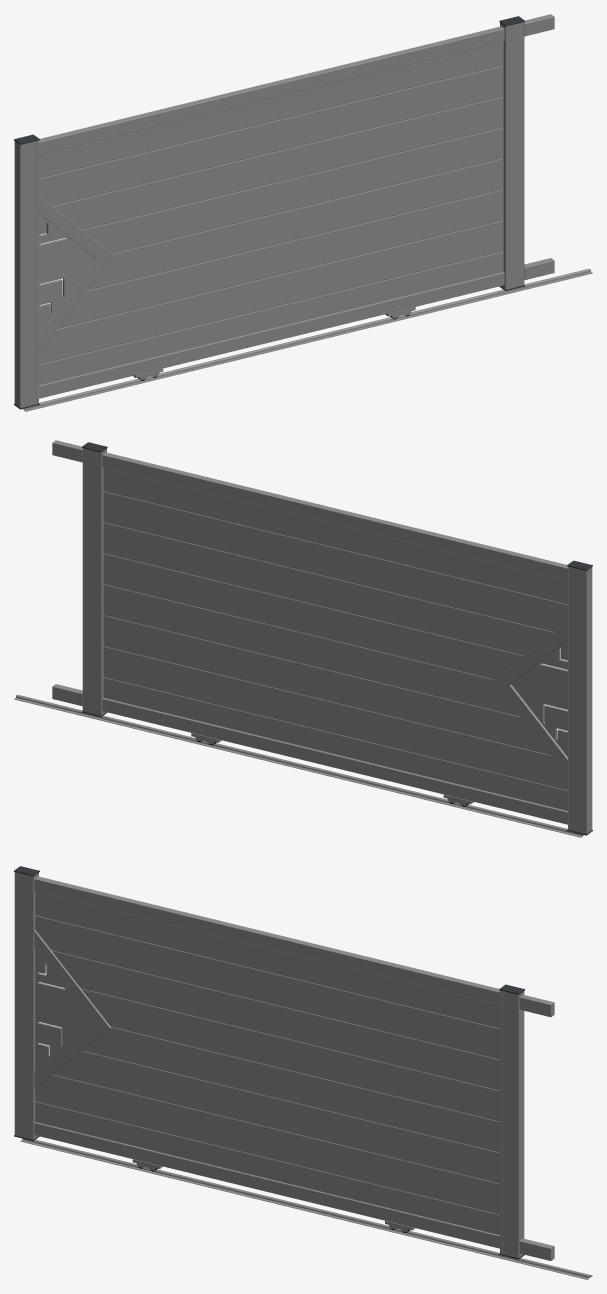
3 renders of one model, top to bottom at view 1: azimuth 30°, elevation 25°; view 2: azimuth 150°, elevation 25°; view 3: azimuth 330°, elevation 25°, orthographic.
Visible parts, largest first — view 1: Shape107412932, Shape107412931, Shape107412933, Shape107412643, Shape107413021, Rail, chip001, Line033; view 2: Shape107412932, Shape107412931, Shape107412933, Shape107412643, Shape107413021, Rail, chip001, Line033; view 3: Shape107412932, Shape107412931, Shape107412933, Shape107413021, Shape107412643, chip001, Rail, Line033.
Part boxes in pixels (x1,y1,x2,y2): Shape107412932: (39,41,503,385); Shape107412931: (39,14,554,154); Shape107412933: (39,258,554,398); Shape107412643: (14,140,38,407); Shape107413021: (500,22,524,289); Rail: (22,268,592,411); chip001: (39,213,95,331); Line033: (39,195,113,351); Shape107412932: (103,468,567,810); Shape107412931: (52,440,567,580); Shape107412933: (52,684,567,824); Shape107412643: (568,566,592,833); Shape107413021: (82,448,106,715); Rail: (14,694,584,837); chip001: (511,639,567,756); Line033: (493,621,567,777); Shape107412932: (35,891,499,1234); Shape107412931: (34,876,554,1017); Shape107412933: (34,1122,554,1260); Shape107413021: (500,990,524,1257); Shape107412643: (14,872,38,1139); chip001: (35,950,92,1070); Rail: (20,1138,592,1279); Line033: (34,930,111,1088).
Bounding box in the file's own units: 3638 × 1636 × 70.
6 materials, 2 textured.
